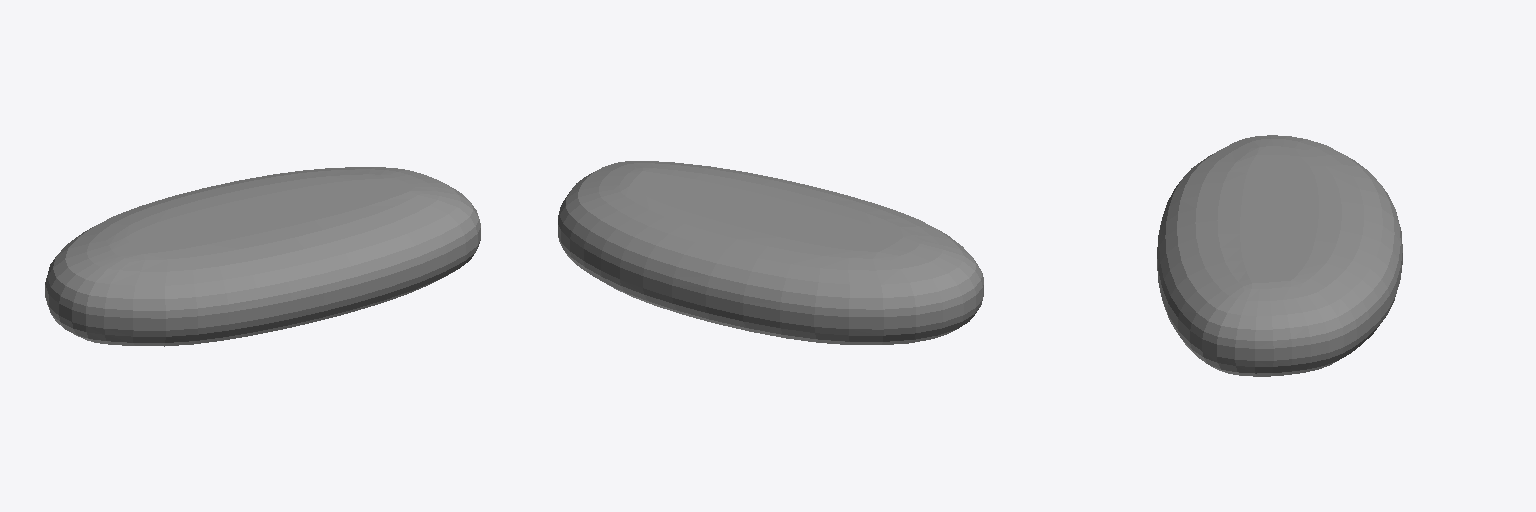
File: Cloud_Maru_004.obj
3 renders of one model, left to right at view 1: azimuth 30°, elevation 25°; view 2: azimuth 150°, elevation 25°; view 3: azimuth 270°, elevation 25°, orthographic.
Visible parts, largest first — view 1: Cloud_Maru_004; view 2: Cloud_Maru_004; view 3: Cloud_Maru_004.
Boxes of the visible parts, <box> form: Cloud_Maru_004: <box>45,167,480,346</box>; Cloud_Maru_004: <box>558,161,983,344</box>; Cloud_Maru_004: <box>1157,135,1402,376</box>.
Bounding box in the file's own units: 0.7762 × 0.149 × 0.4075.